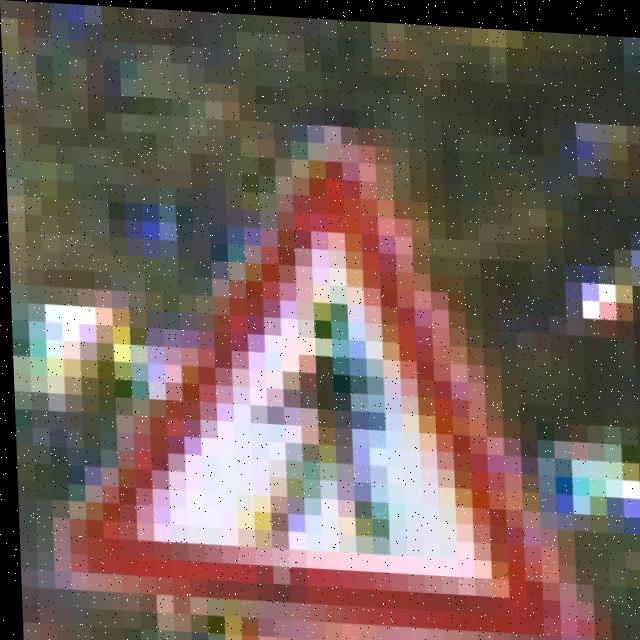crosswalk: (87, 178, 592, 640)
